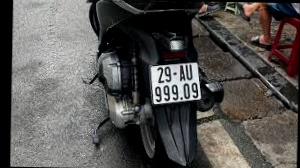Bien-so: (139, 62, 194, 107)
